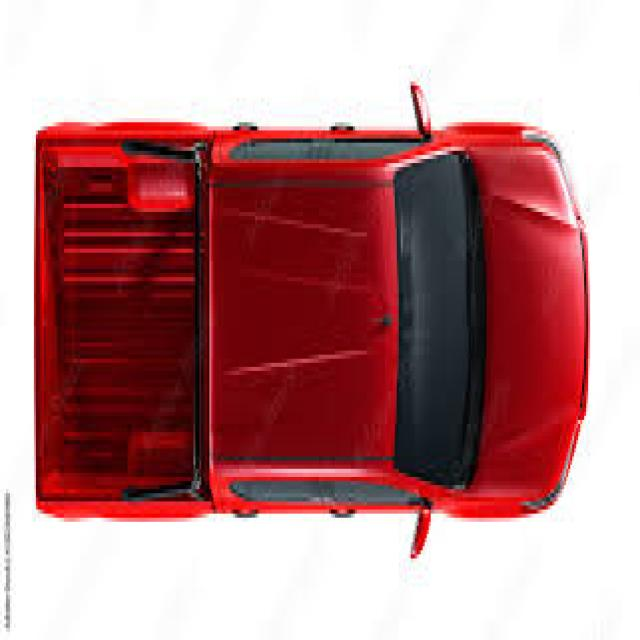truck: (33, 110, 590, 522)
